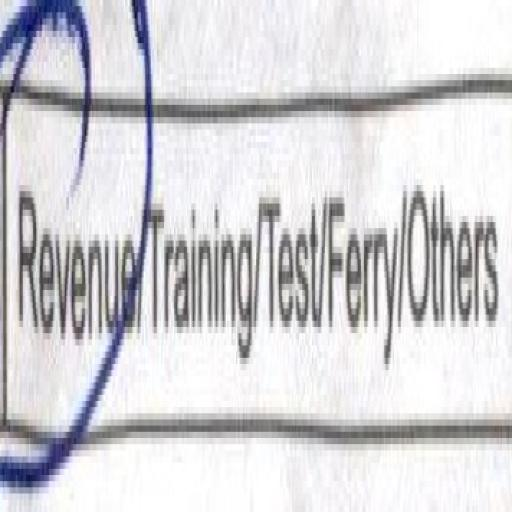check: (0, 0, 142, 487)
